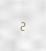two: (19, 19, 24, 31)
